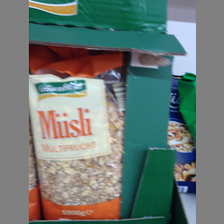cereal: (28, 70, 125, 219)
